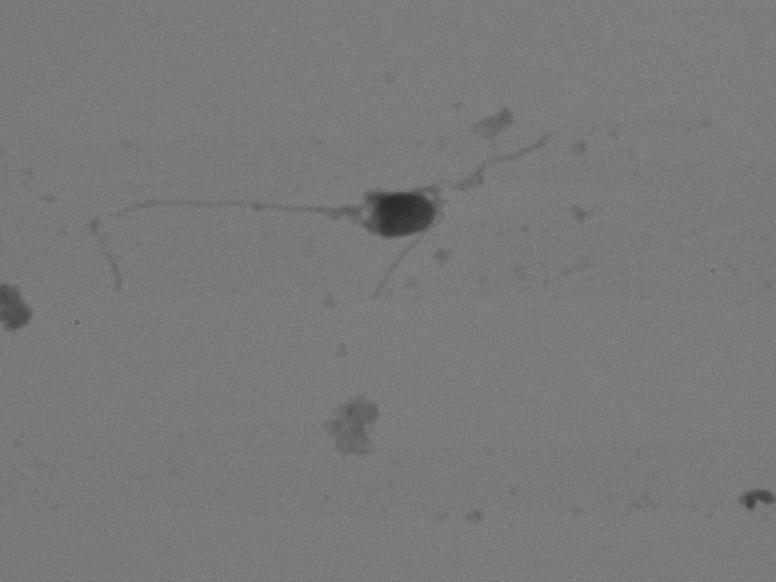Abnormal: (75, 141, 449, 320)
